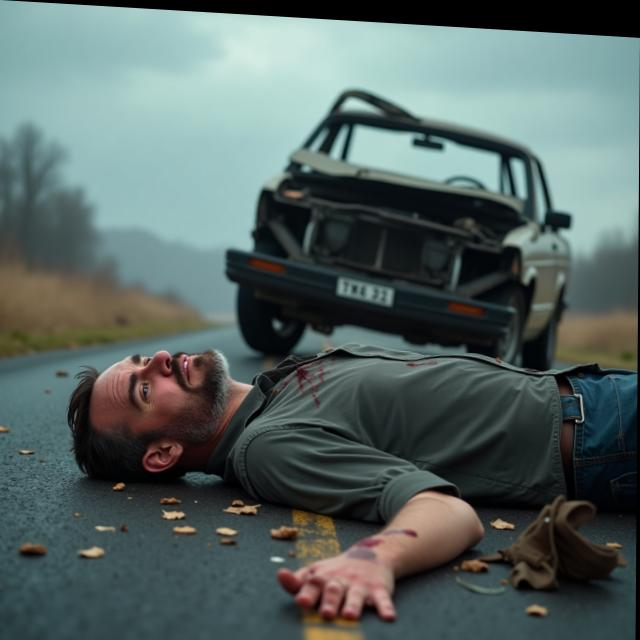no injury: (36, 311, 637, 640)
